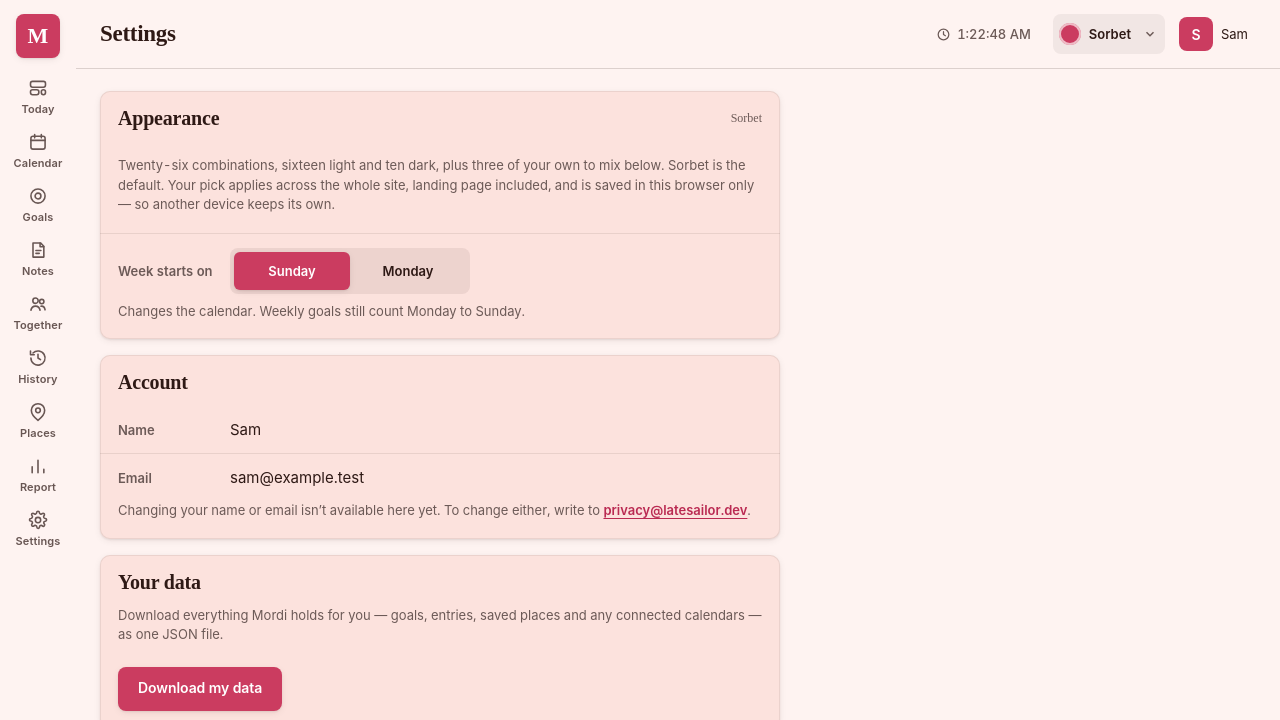
Download my data › saves the server’s full export as it came
This screenshot has width=1280, height=720.
Click the button "Download my data" at (200,688), box [118, 666, 282, 710]
(page scrolled)
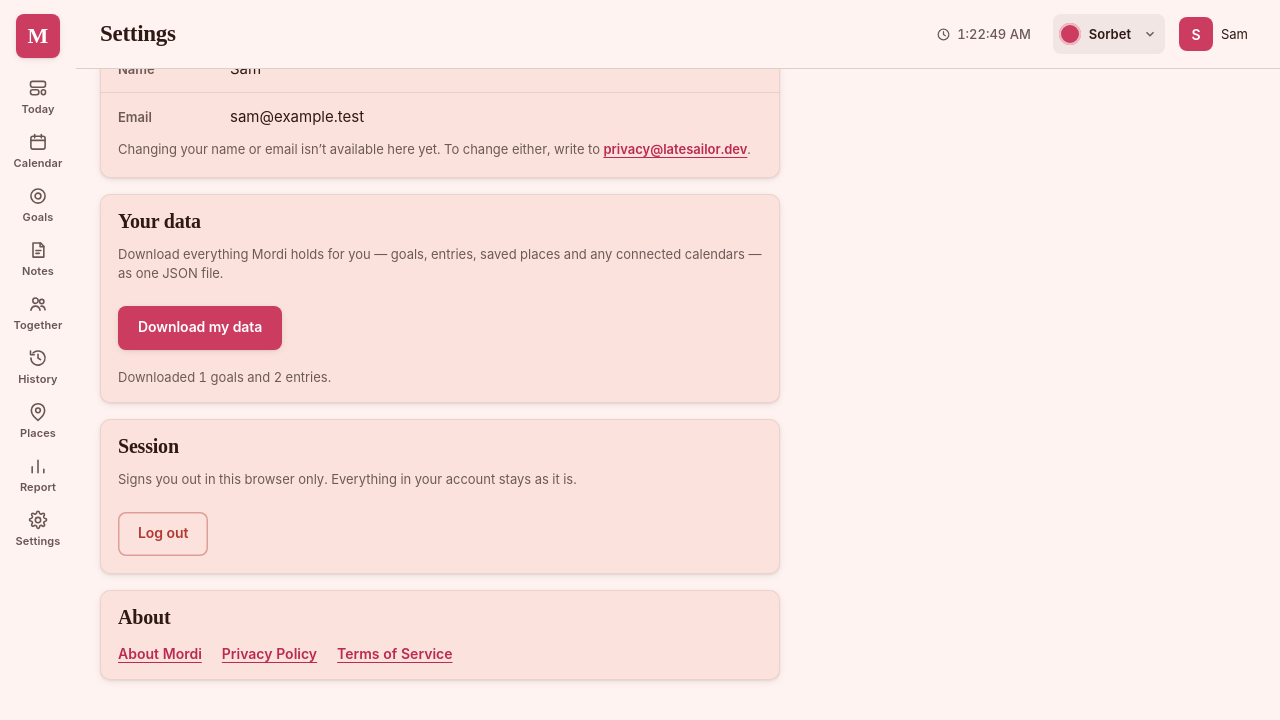
Check: the text "Downloaded 1 goals and 2 entries." is shown, box [118, 368, 331, 384]
